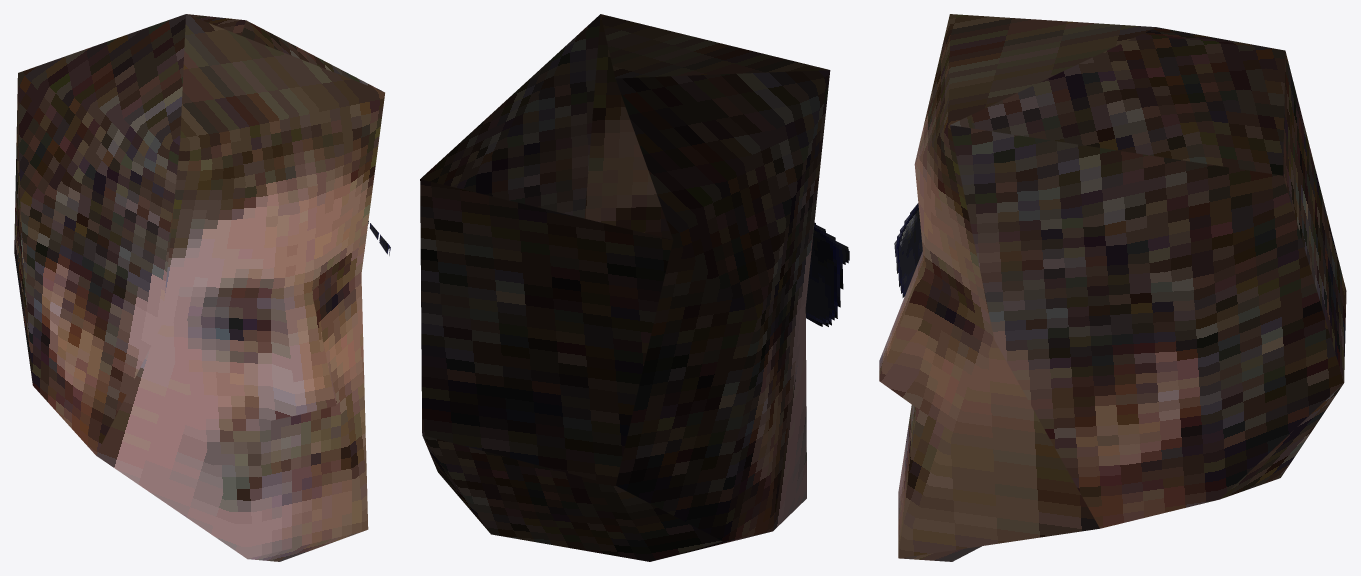
Rendered from CheadalanZ.obj.
3 renders of one model, left to right at view 1: azimuth 30°, elevation 25°; view 2: azimuth 150°, elevation 25°; view 3: azimuth 270°, elevation 25°, orthographic. The views are drawn at different scales.
Bounding box in the file's own units: 162 × 251 × 199.
8 materials, 8 textured.
